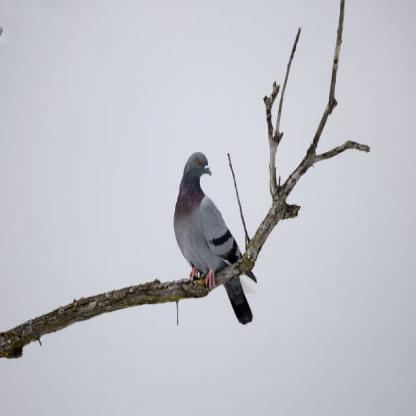Rock Pigeon: (174, 148, 257, 328)
